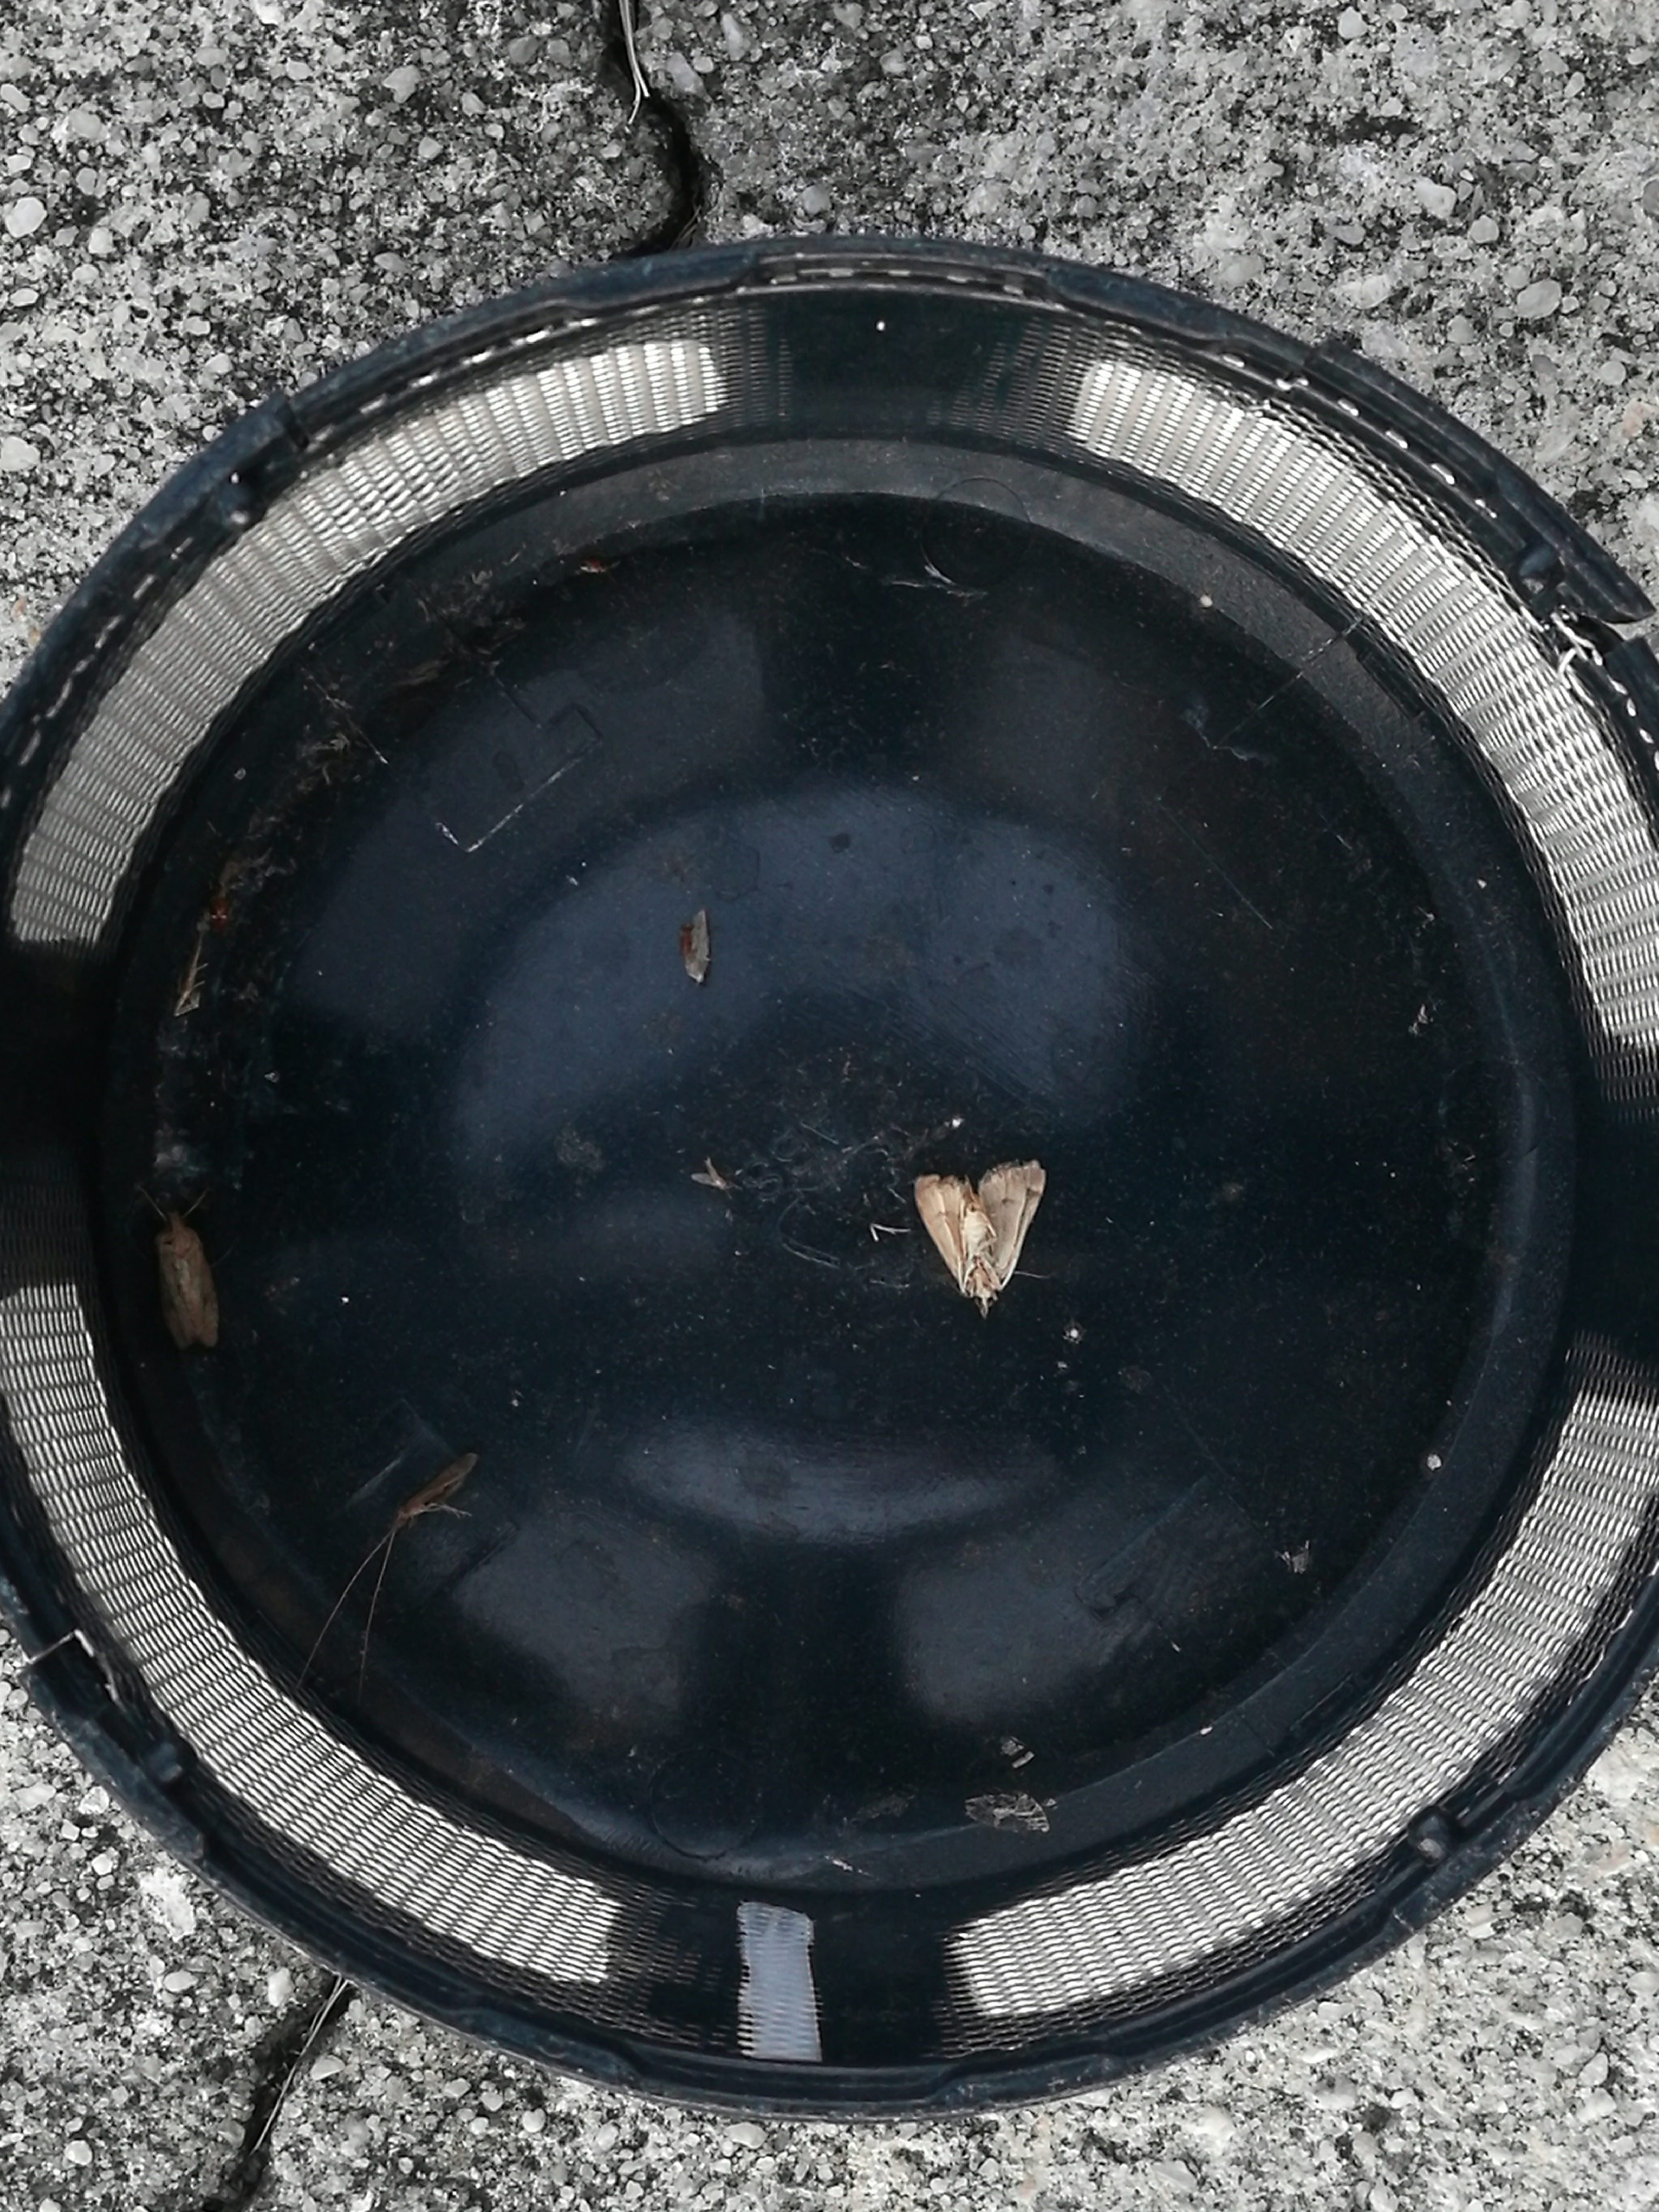mosquito: (392, 1454, 474, 1527)
moth: (918, 1162, 1040, 1294), (153, 1209, 220, 1352)
